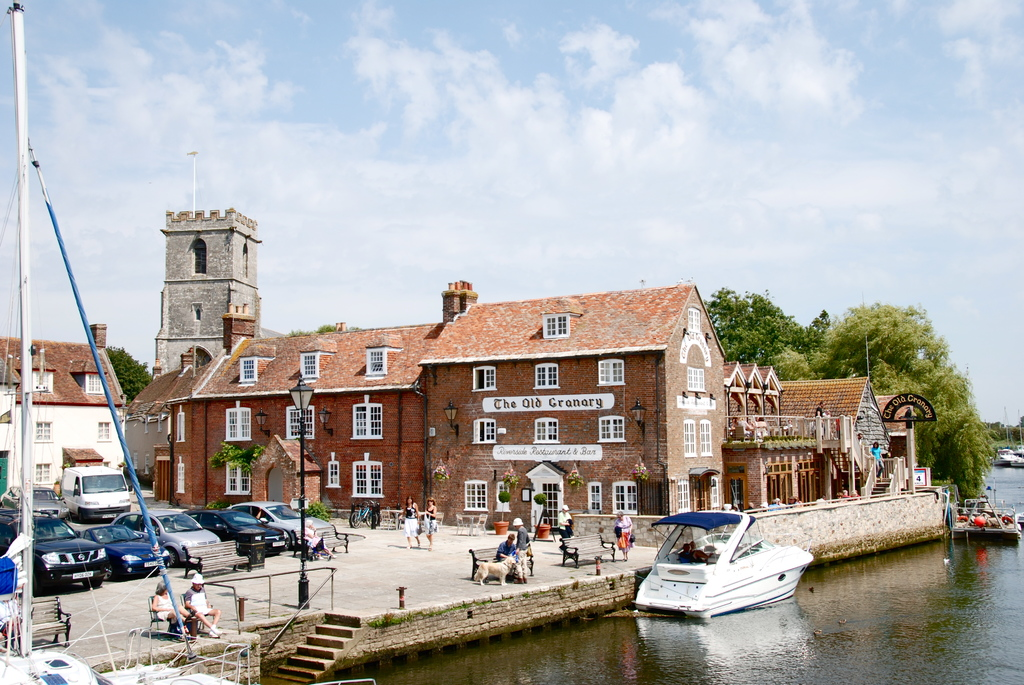Car: (0, 508, 110, 590), (115, 504, 213, 563), (77, 519, 174, 576), (190, 509, 286, 563), (230, 502, 343, 543)
